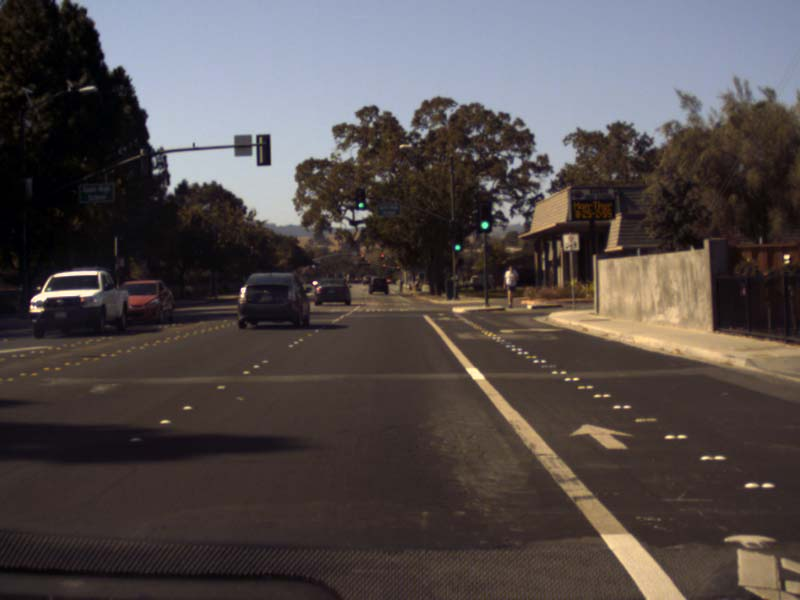Green: (478, 201, 491, 232), (355, 187, 365, 210), (452, 232, 462, 252)
Red: (379, 252, 385, 258), (395, 265, 400, 269), (382, 263, 386, 267), (367, 260, 370, 264)
Yellow: (360, 254, 365, 259)
